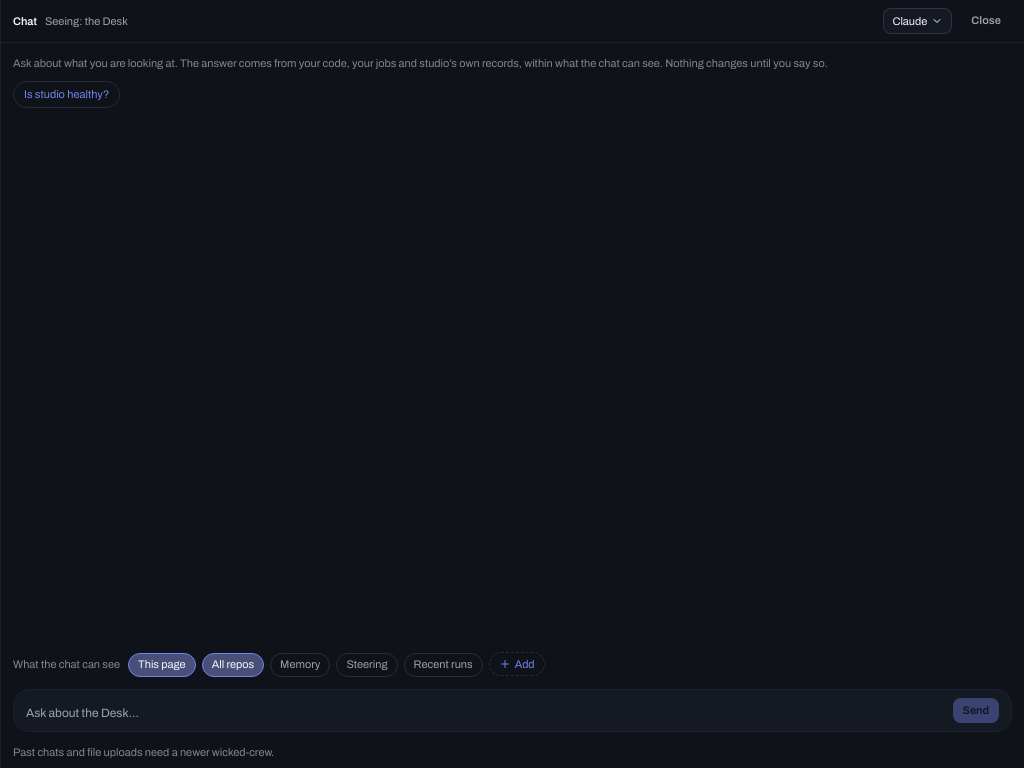
Test case: an ask starts a path › opens the chat over the eligible roster with the picked CLI as its primary, sends once, and deposits the 202’s turn, run and step
The width and height of the screenshot is (1024, 768).
In the text box with test id "assist-input": coordinates (485, 712) [26,702,944,722], type "why does greet() not trim?"
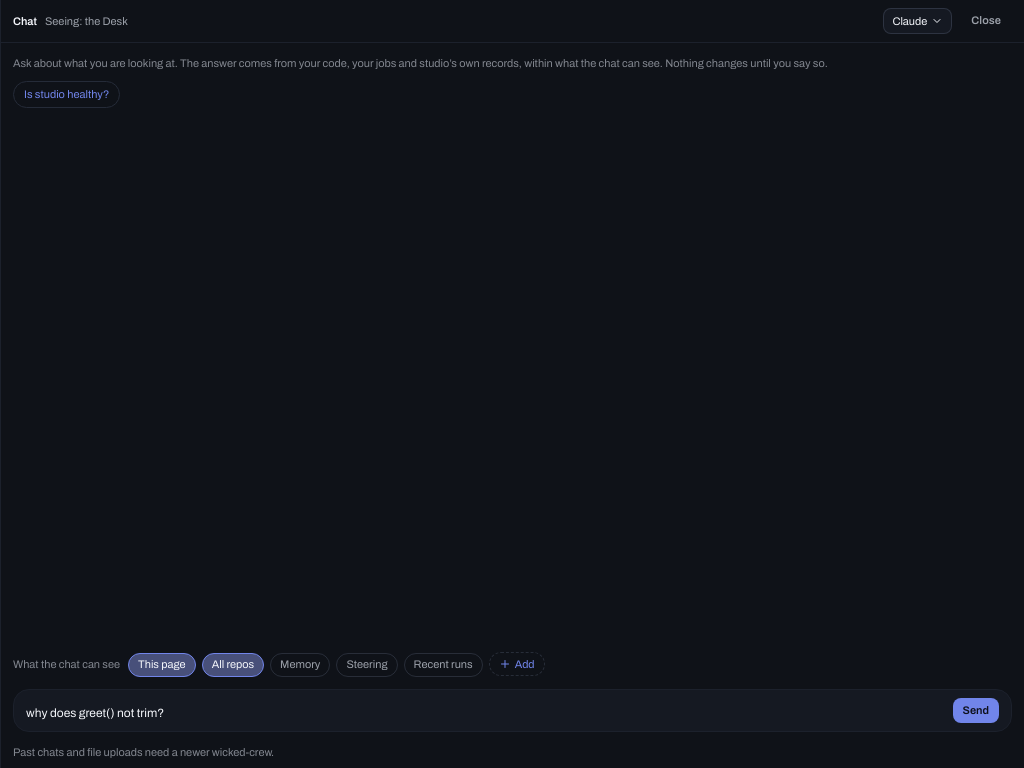
Click the button with test id "assist-send": coordinates (976, 710) [952,698,999,722]
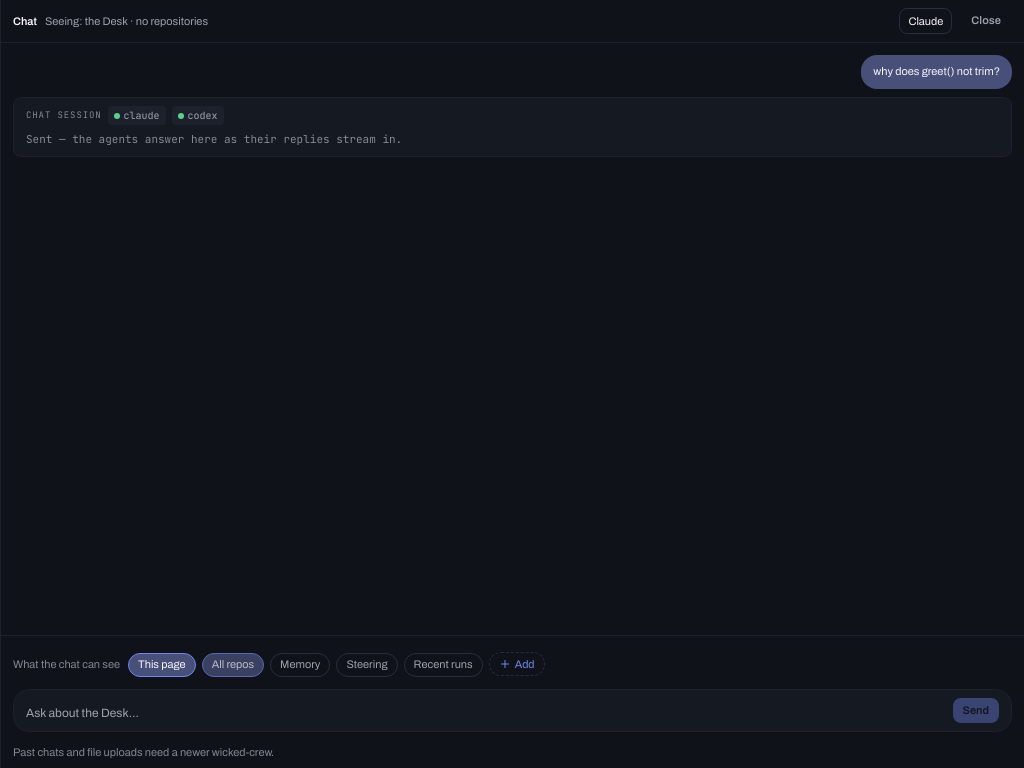
Now the element showing "claude" is shown, box [108,106,166,125]
